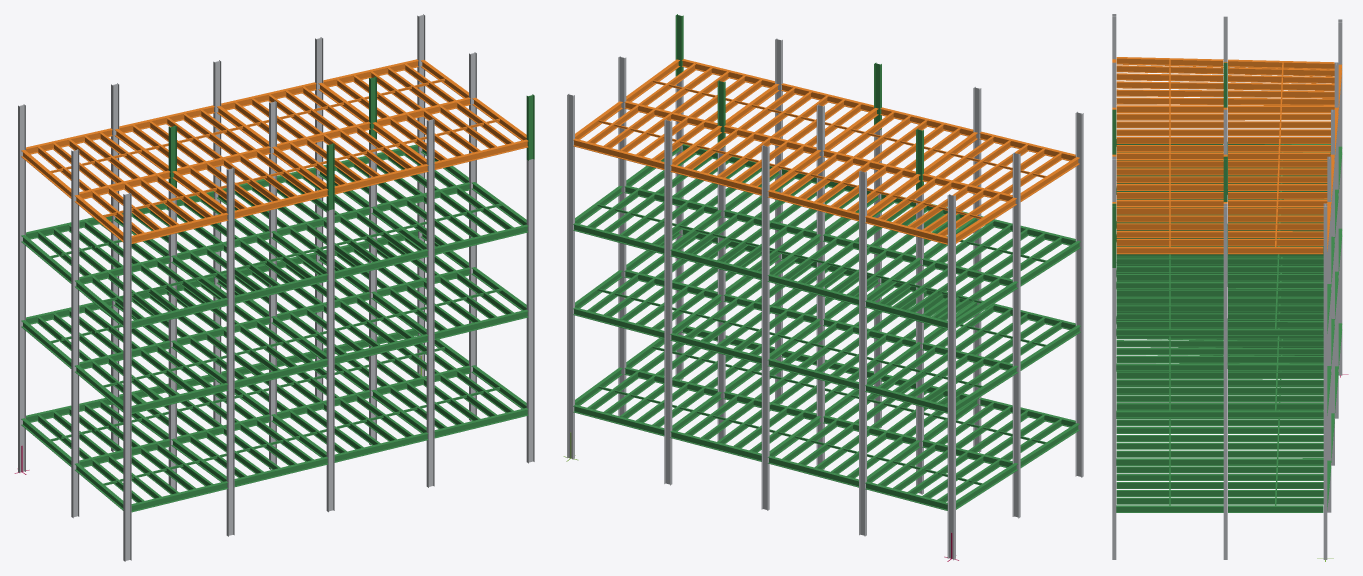
File: ismerely_r8_obra.glb
3 views of the same model, side by side, from view 1: azimuth 30°, elevation 25°; view 2: azimuth 150°, elevation 25°; view 3: azimuth 270°, elevation 25° (orthographic). The views are drawn at different scales.
Visible parts, largest first — view 1: RA_VERDE, RA_GRIS, RA_NARANJA; view 2: RA_VERDE, RA_GRIS, RA_NARANJA; view 3: RA_VERDE, RA_NARANJA, RA_GRIS.
Boxes of the visible parts, left/top/right/bottom form: RA_VERDE: left=21, top=76, right=534, bottom=512; RA_GRIS: left=18, top=14, right=534, bottom=561; RA_NARANJA: left=21, top=59, right=528, bottom=243; RA_VERDE: left=573, top=14, right=1080, bottom=510; RA_GRIS: left=567, top=38, right=1083, bottom=560; RA_NARANJA: left=573, top=59, right=1079, bottom=244; RA_VERDE: left=1112, top=62, right=1342, bottom=512; RA_NARANJA: left=1112, top=57, right=1342, bottom=254; RA_GRIS: left=1112, top=14, right=1342, bottom=559.
Size of the model in its own units: 33.09 by 28 by 16.97.
